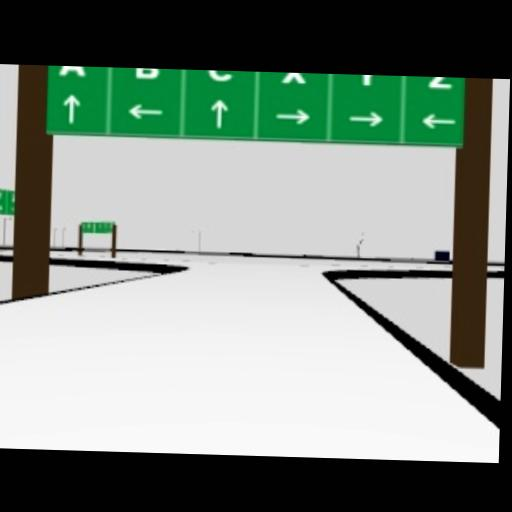A: (59, 66, 85, 77)
B: (135, 68, 159, 79)
C: (205, 70, 233, 81)
Left: (127, 102, 163, 119), (419, 113, 455, 130)
Right: (347, 109, 383, 127), (276, 108, 312, 125)
Straight: (209, 98, 229, 127), (62, 93, 80, 123)
X: (280, 72, 306, 83)
Y: (354, 75, 378, 85)
Z: (427, 77, 453, 89)
